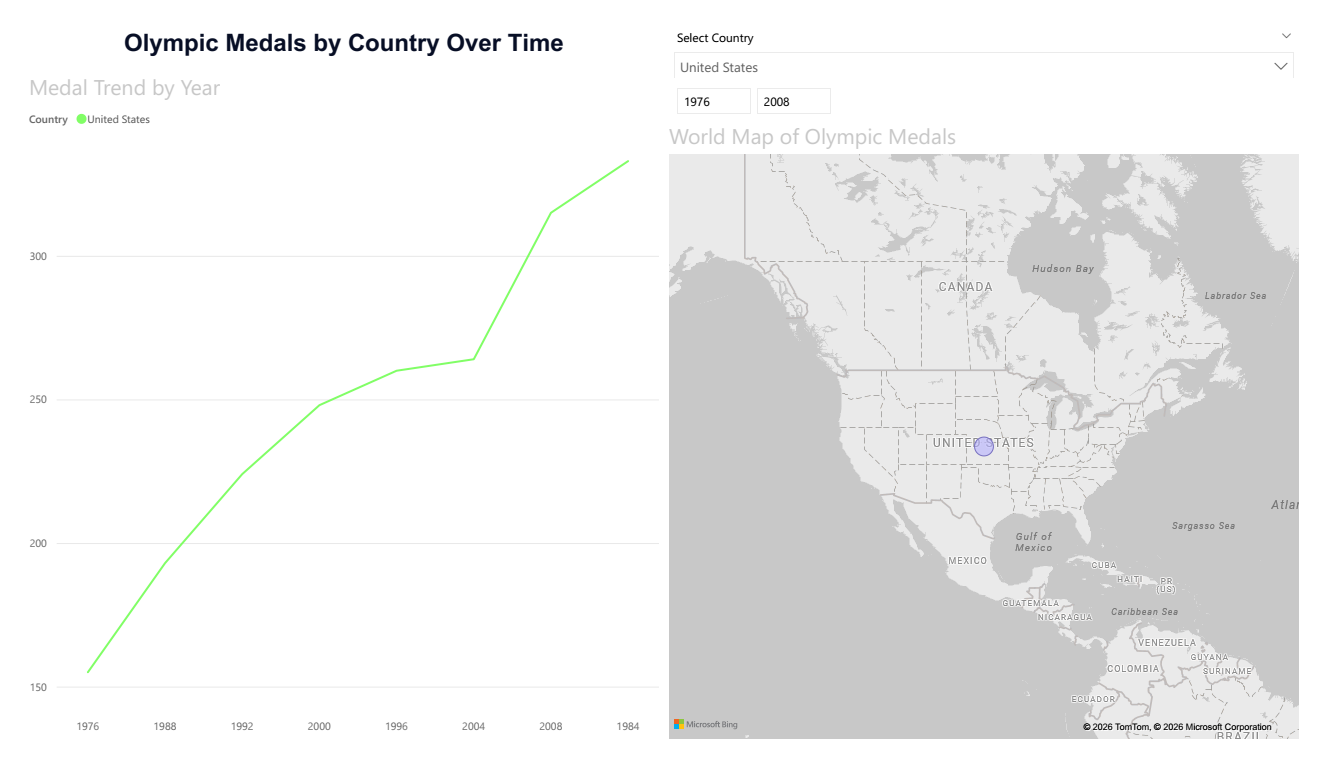

What the dashboard file says about the page in this screenshot:
{"tool":"powerbi","page":{"name":"Dashboard- 3","canvas":[1280,720],"ordinal":2},"visuals":[{"type":"slicer","fields":{"Values":["Summer-Olympic-medals-1976-to-2008.Year"]},"box":[640,54.5,640,42.8],"z":0},{"type":"slicer","title":"Select Country","fields":{"Values":["Summer-Olympic-medals-1976-to-2008.Country"]},"box":[640,0,640,54.5],"z":1000},{"type":"lineChart","title":"Medal Trend by Year","fields":{"Category":["Summer-Olympic-medals-1976-to-2008.Year"],"Y":["CountNonNull(Summer-Olympic-medals-1976-to-2008.Medal)"],"Series":["Summer-Olympic-medals-1976-to-2008.Country"]},"box":[0,47.7,640,672.1],"z":2000},{"type":"textbox","box":[0,0,640,47.7],"z":3000},{"type":"map","title":"World Map of Olympic Medals","fields":{"Category":["Summer-Olympic-medals-1976-to-2008.Country"],"Size":["CountNonNull(Summer-Olympic-medals-1976-to-2008.Medal)"]},"box":[640,97.3,640,622.5],"z":4000}]}

Visuals, with their boxes in screenshot pixels (x1, y1, x2, y2), scaled from the page's 1280x720 canvas onto the 1328x768 screenshot:
slicer - Summer-Olympic-medals-1976-to-2008.Year: [664,58,1327,104]
"Select Country" slicer: [664,0,1327,58]
"Medal Trend by Year" lineChart: [0,51,664,767]
textbox: [0,0,664,51]
"World Map of Olympic Medals" map: [664,104,1327,767]
